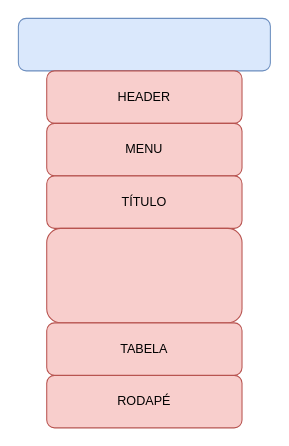
Some shapes in this 289 by 446 pixel diagram are drawn without their labels. Here are the shapes that lost their labels. From the top down, the box of each, then its label:
(17, 17, 270, 71): Gastronomia
(46, 227, 242, 323): IMAGEM
